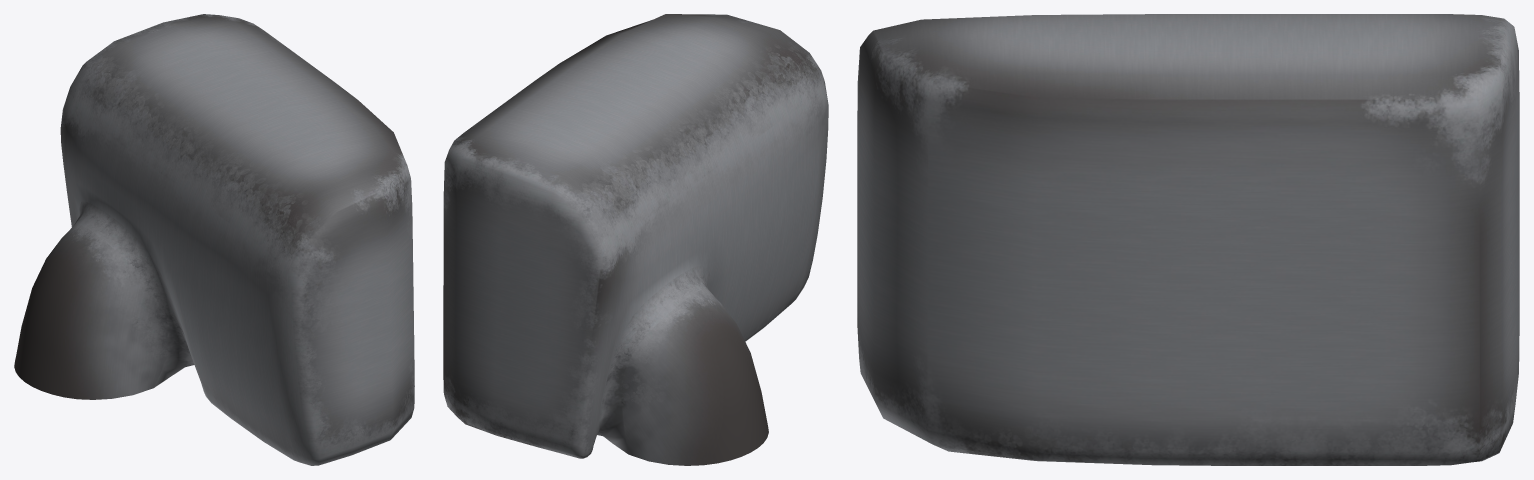
Rendered from hand_dryer.glb.
3 renders of one model, left to right at view 1: azimuth 30°, elevation 25°; view 2: azimuth 150°, elevation 25°; view 3: azimuth 270°, elevation 25°, orthographic. The views are drawn at different scales.
Visible parts, largest first — view 1: SM_handdryer_low; view 2: SM_handdryer_low; view 3: SM_handdryer_low.
Part boxes in pixels (box(x1,y1,x2,y2)): SM_handdryer_low: box(14, 14, 414, 465); SM_handdryer_low: box(443, 14, 828, 465); SM_handdryer_low: box(857, 14, 1519, 465).
Bounding box in the file's own units: 36.71 × 35.84 × 54.44.
Materials: 1 (1 with a texture image).
